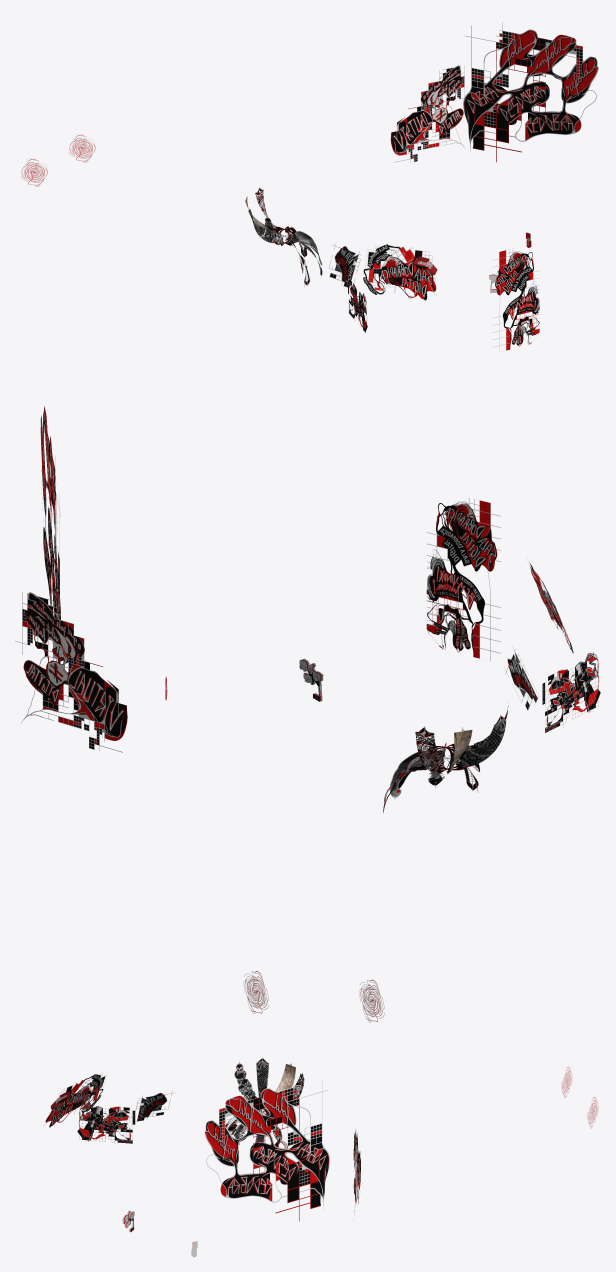
The model's file is transp red.glb.
3 renders of one model, top to bottom at view 1: azimuth 30°, elevation 25°; view 2: azimuth 150°, elevation 25°; view 3: azimuth 270°, elevation 25°, orthographic. The views are drawn at different scales.
Visible parts, largest first — view 1: TRANSPARENCIAS; view 2: TRANSPARENCIAS; view 3: TRANSPARENCIAS.
Part boxes in pixels (x1=…): TRANSPARENCIAS: x1=21, y1=22, x2=598, y2=351; TRANSPARENCIAS: x1=15, y1=406, x2=600, y2=1022; TRANSPARENCIAS: x1=45, y1=1057, x2=598, y2=1257.
Bounding box in the file's own units: 174 × 80.52 × 213.
Materials: 14 (14 with a texture image).
